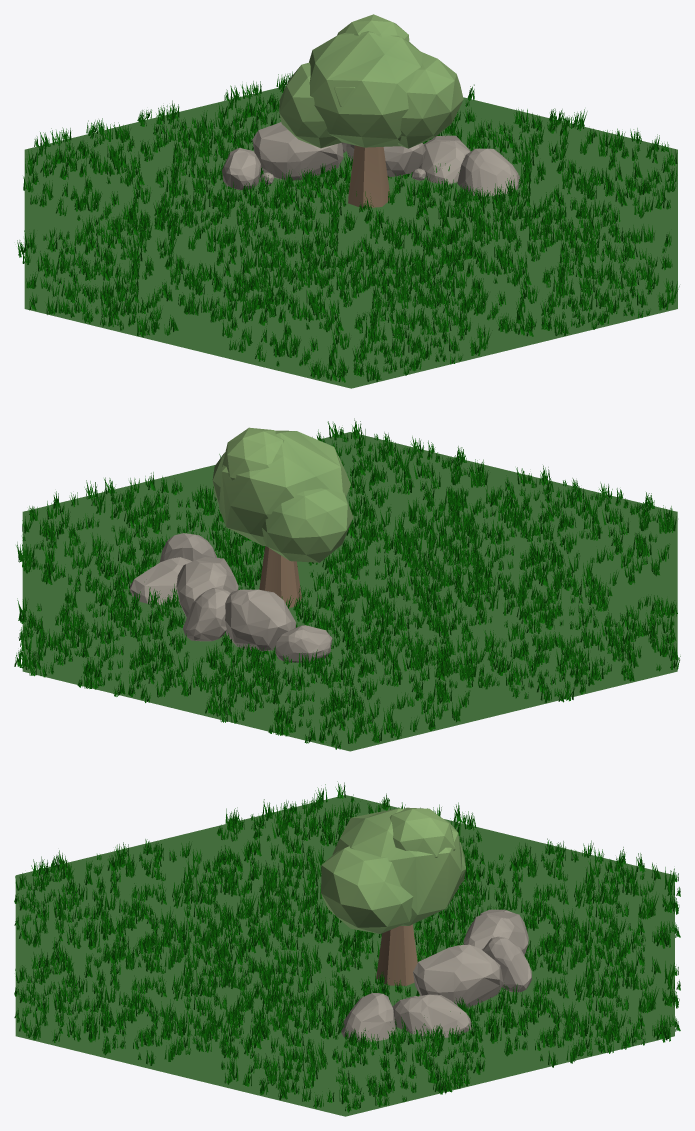
The model's file is Hextile Origintree.glb.
3 renders of one model, top to bottom at view 1: azimuth 30°, elevation 25°; view 2: azimuth 150°, elevation 25°; view 3: azimuth 270°, elevation 25°, orthographic.
Parts seen in each view (by area): view 1: HexTile_Master, Tree_Deciduous_Master, Grass_Field_OriginTile.004, Grass_Field_OriginTile.003, Grass_Field_OriginTile.001, Grass_Field_OriginTile, Grass_Field_OriginTile.005, Grass_Field_OriginTile.002, Grass_Field_OriginTile.006, Rock_Master.006, Rock_Master.008, Rock_Master.001 (+2 smaller); view 2: HexTile_Master, Tree_Deciduous_Master, Grass_Field_OriginTile.001, Grass_Field_OriginTile.004, Grass_Field_OriginTile.005, Grass_Field_OriginTile.006, Grass_Field_OriginTile, Grass_Field_OriginTile.002, Grass_Field_OriginTile.003, Rock_Master.006, Rock_Master.003, Rock_Master.004 (+3 smaller); view 3: HexTile_Master, Tree_Deciduous_Master, Grass_Field_OriginTile.003, Grass_Field_OriginTile.004, Grass_Field_OriginTile.002, Grass_Field_OriginTile.005, Grass_Field_OriginTile.006, Grass_Field_OriginTile, Grass_Field_OriginTile.001, Rock_Master.003, Rock_Master.001, Rock_Master.008 (+2 smaller).
Part boxes in pixels (x1,y1,x2,y2): HexTile_Master: (24,86,677,388); Tree_Deciduous_Master: (279,14,463,208); Grass_Field_OriginTile.004: (222,246,492,382); Grass_Field_OriginTile.003: (410,201,679,336); Grass_Field_OriginTile.001: (17,203,285,337); Grass_Field_OriginTile: (217,163,484,290); Grass_Field_OriginTile.005: (23,100,292,236); Grass_Field_OriginTile.002: (417,108,677,241); Grass_Field_OriginTile.006: (213,71,482,190); Rock_Master.006: (252,122,343,180); Rock_Master.008: (457,148,520,196); Rock_Master.001: (419,135,470,184); HexTile_Master: (22,432,677,751); Tree_Deciduous_Master: (212,427,353,607); Grass_Field_OriginTile.001: (408,567,680,702); Grass_Field_OriginTile.004: (404,465,676,602); Grass_Field_OriginTile.005: (205,611,476,749); Grass_Field_OriginTile.006: (14,565,276,702); Grass_Field_OriginTile: (227,521,485,652); Grass_Field_OriginTile.002: (16,472,265,605); Grass_Field_OriginTile.003: (216,418,488,556); Rock_Master.006: (225,589,295,651); Rock_Master.003: (176,557,238,617); Rock_Master.004: (183,588,230,641); HexTile_Master: (15,795,674,1116); Tree_Deciduous_Master: (321,807,465,985); Grass_Field_OriginTile.003: (14,931,278,1065); Grass_Field_OriginTile.004: (14,839,278,973); Grass_Field_OriginTile.002: (218,974,485,1112); Grass_Field_OriginTile.005: (418,838,680,973); Grass_Field_OriginTile.006: (416,932,680,1067); Grass_Field_OriginTile: (211,880,470,1014); Grass_Field_OriginTile.001: (217,781,485,915); Rock_Master.003: (413,944,503,1008); Rock_Master.001: (392,994,472,1037); Rock_Master.008: (341,993,396,1041).
Bounding box in the file's own units: 10 × 3.22 × 8.76.
